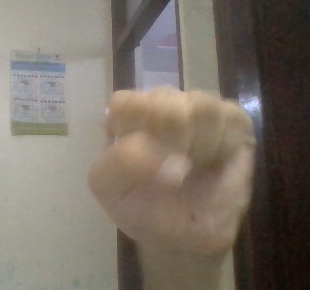click: (82, 75, 293, 261)
